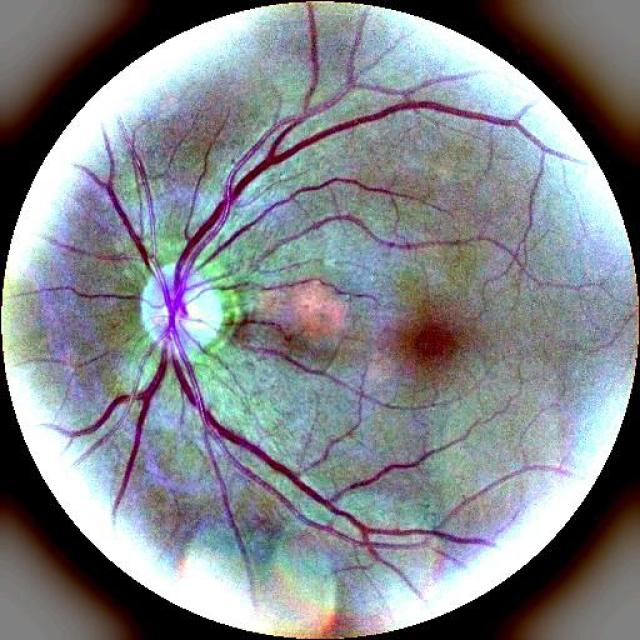Macula: (406, 312, 461, 369)
Nerves: (51, 2, 558, 555), (201, 178, 395, 266), (211, 429, 350, 539), (41, 285, 141, 304)
Optic Disk: (144, 269, 224, 356)
